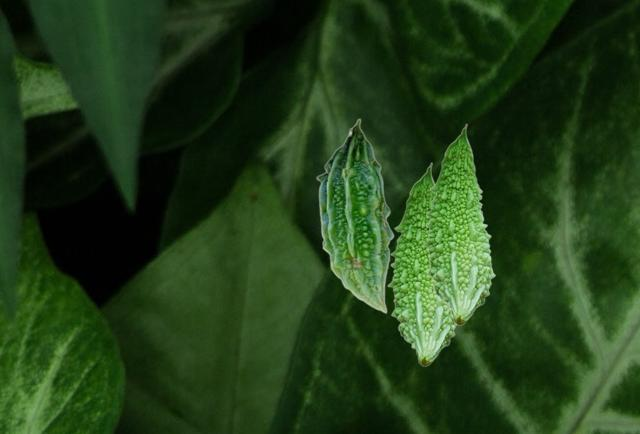ampalaya: (315, 118, 395, 314), (422, 123, 496, 327), (387, 162, 457, 367)
